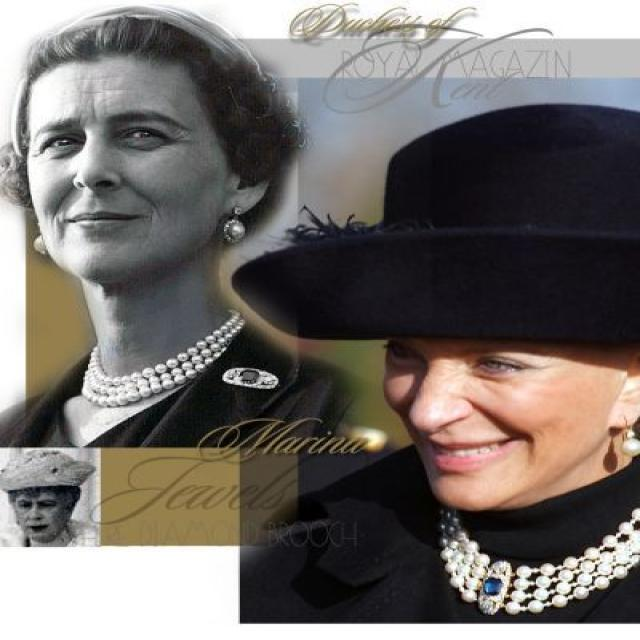Earring: (217, 212, 256, 248), (22, 233, 56, 265), (617, 426, 640, 466)
